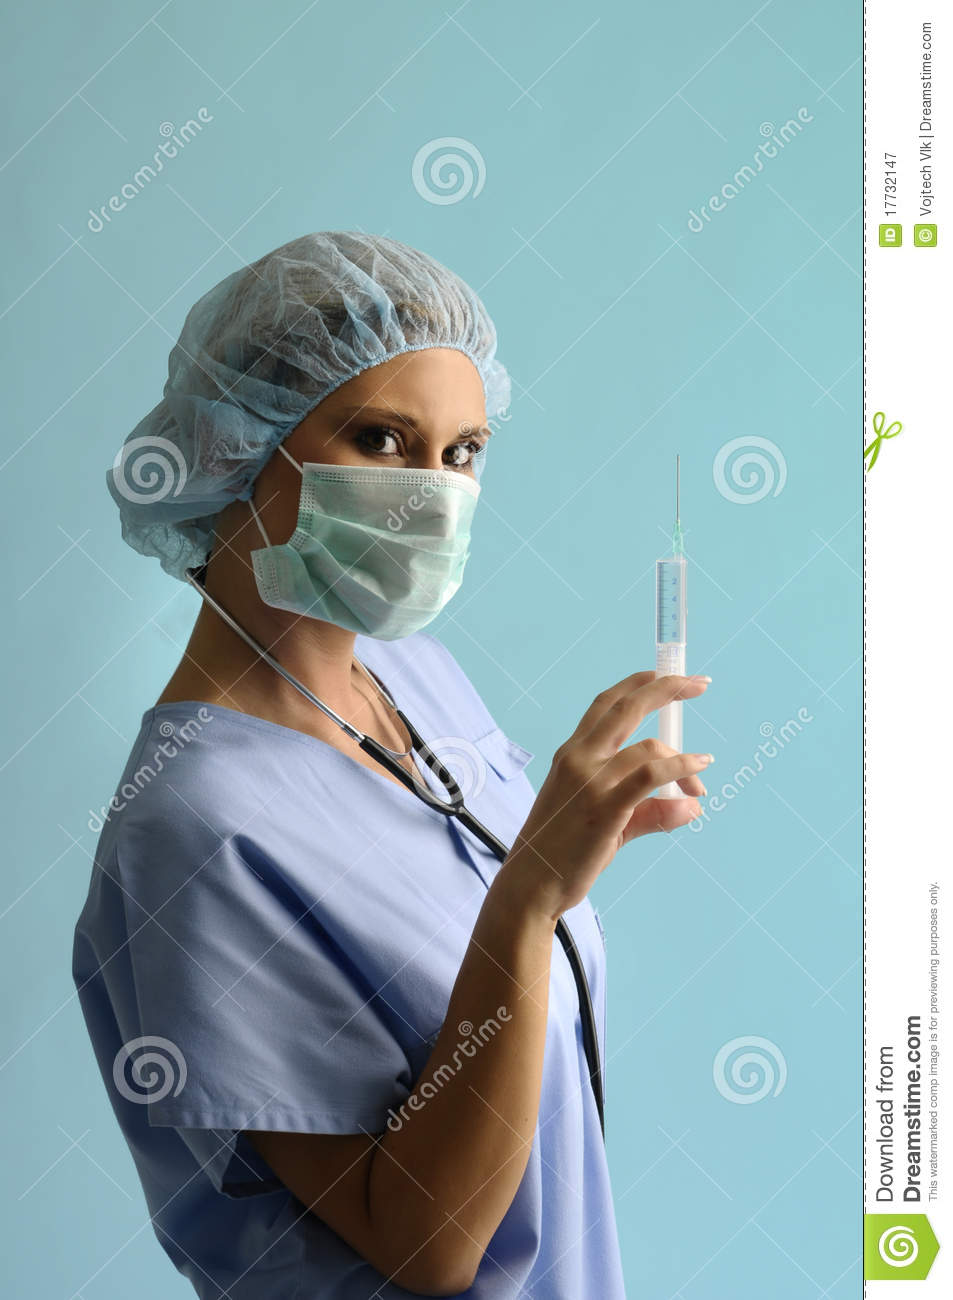mask: (266, 455, 498, 641)
